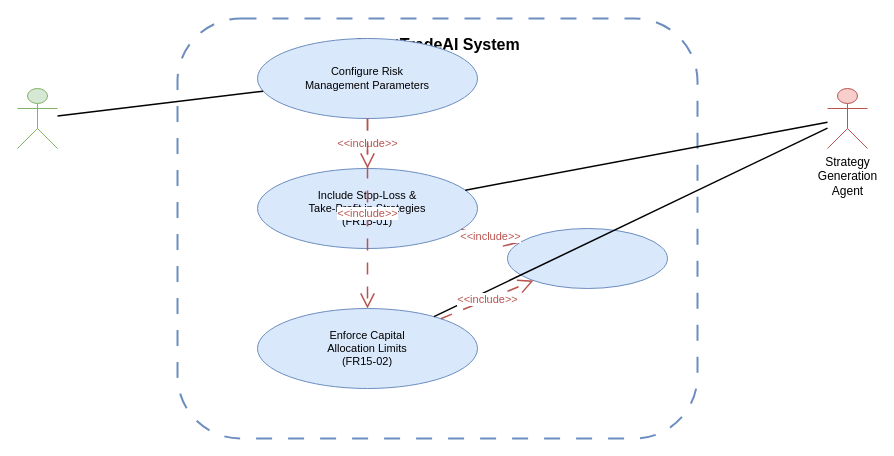
This 894x456 diagram has some shape labels left out. The shapes that lost their labels are listed below. From the top down, each one's centre as x and y in pixels, then its label:
At (37,118): "Trader".
At (587,258): "Validate Risk Parameters".
